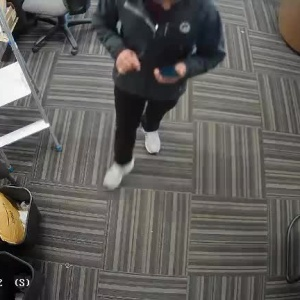person: (110, 0, 212, 193)
